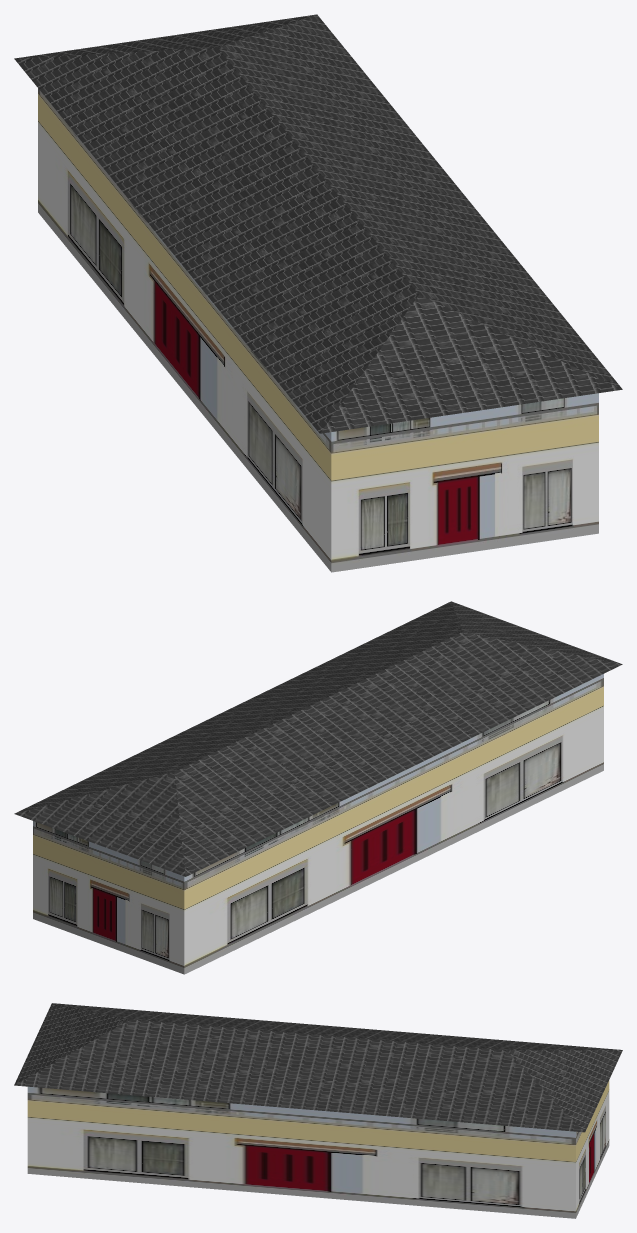
The picture shows the model from 3 angles, top to bottom: view 1: azimuth 30°, elevation 25°; view 2: azimuth 150°, elevation 25°; view 3: azimuth 270°, elevation 25°; orthographic projection. The views are drawn at different scales.
Visible parts, largest first — view 1: CityEngineMaterial_16_m, CityEngineMaterial_15_m; view 2: CityEngineMaterial_16_m, CityEngineMaterial_15_m; view 3: CityEngineMaterial_15_m, CityEngineMaterial_16_m.
Boxes of the visible parts, x1,y1,x2,y2 form: CityEngineMaterial_16_m: (14, 14, 622, 433); CityEngineMaterial_15_m: (38, 88, 598, 572); CityEngineMaterial_16_m: (14, 601, 622, 876); CityEngineMaterial_15_m: (33, 674, 603, 974); CityEngineMaterial_15_m: (27, 1080, 609, 1218); CityEngineMaterial_16_m: (14, 1003, 622, 1132).
Bounding box in the file's own units: 24.66 × 11.11 × 49.08.
